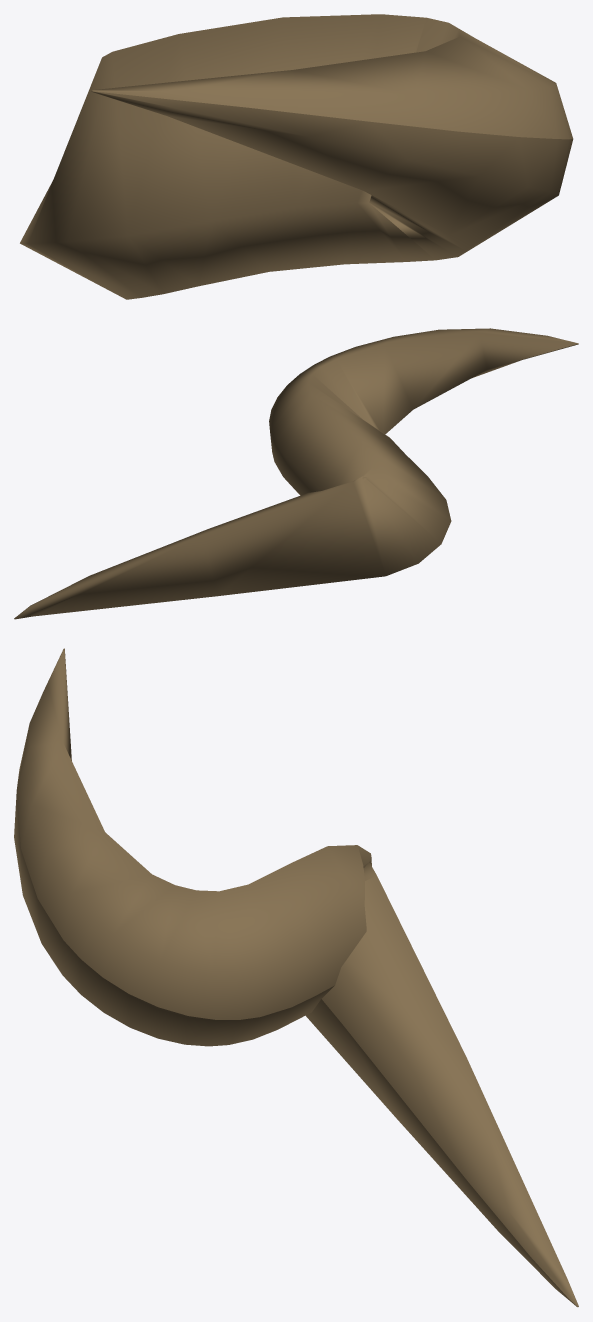
The model's file is zig1.glb.
3 views of the same model, one above another, from view 1: azimuth 30°, elevation 25°; view 2: azimuth 150°, elevation 25°; view 3: azimuth 270°, elevation 25° (orthographic). The views are drawn at different scales.
Visible parts, largest first — view 1: s.003; view 2: s.003; view 3: s.003.
Part boxes in pixels (x1,y1,x2,y2): s.003: (20,14,573,299); s.003: (14,328,578,619); s.003: (14,648,578,1307).
Bounding box in the file's own units: 1.22 × 0.7318 × 1.01.
